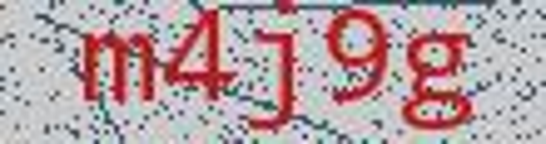4: (163, 4, 234, 120)
9: (314, 2, 395, 127)
g: (398, 17, 484, 139)
j: (242, 1, 310, 141)
m: (66, 14, 163, 116)
